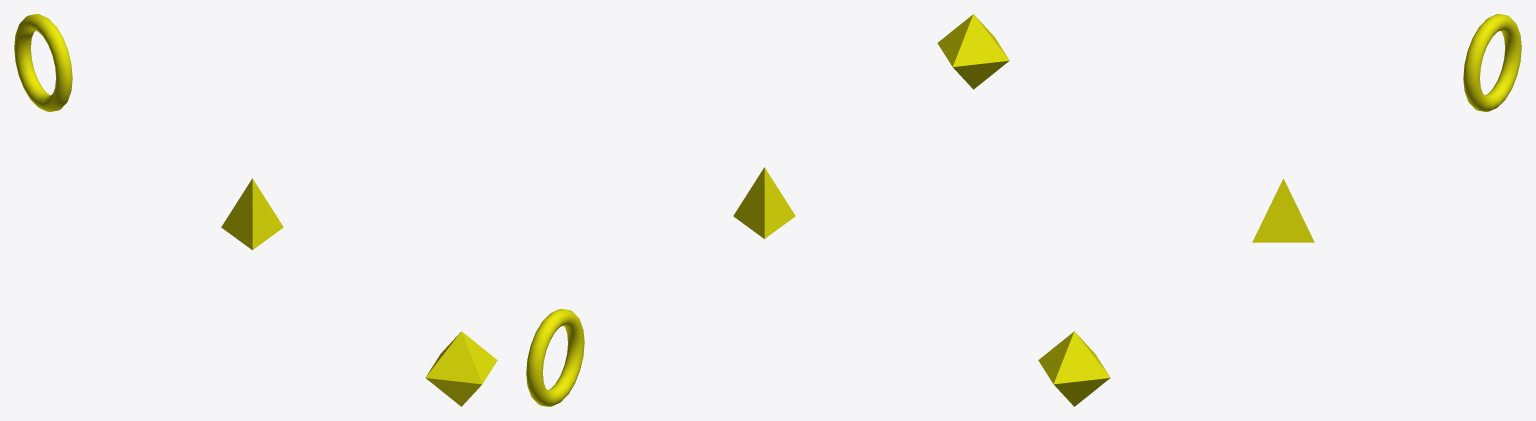
The model's file is ItemAssets.fbx.
3 views of the same model, side by side, from view 1: azimuth 30°, elevation 25°; view 2: azimuth 150°, elevation 25°; view 3: azimuth 330°, elevation 25° (orthographic).
Parts seen in each view (by area): view 1: Item_003, Item_002, Item_001; view 2: Item_003, Item_002, Item_001; view 3: Item_003, Item_002, Item_001.
Boxes of the visible parts, <box> form: Item_003: <box>14,14,72,111</box>; Item_002: <box>425,331,497,406</box>; Item_001: <box>221,178,283,249</box>; Item_003: <box>526,309,584,406</box>; Item_002: <box>937,14,1009,89</box>; Item_001: <box>733,167,795,238</box>; Item_003: <box>1463,14,1521,111</box>; Item_002: <box>1038,331,1110,406</box>; Item_001: <box>1252,178,1314,242</box>.
Size of what is drawn, in the model's own units: 20 by 24 by 222.
